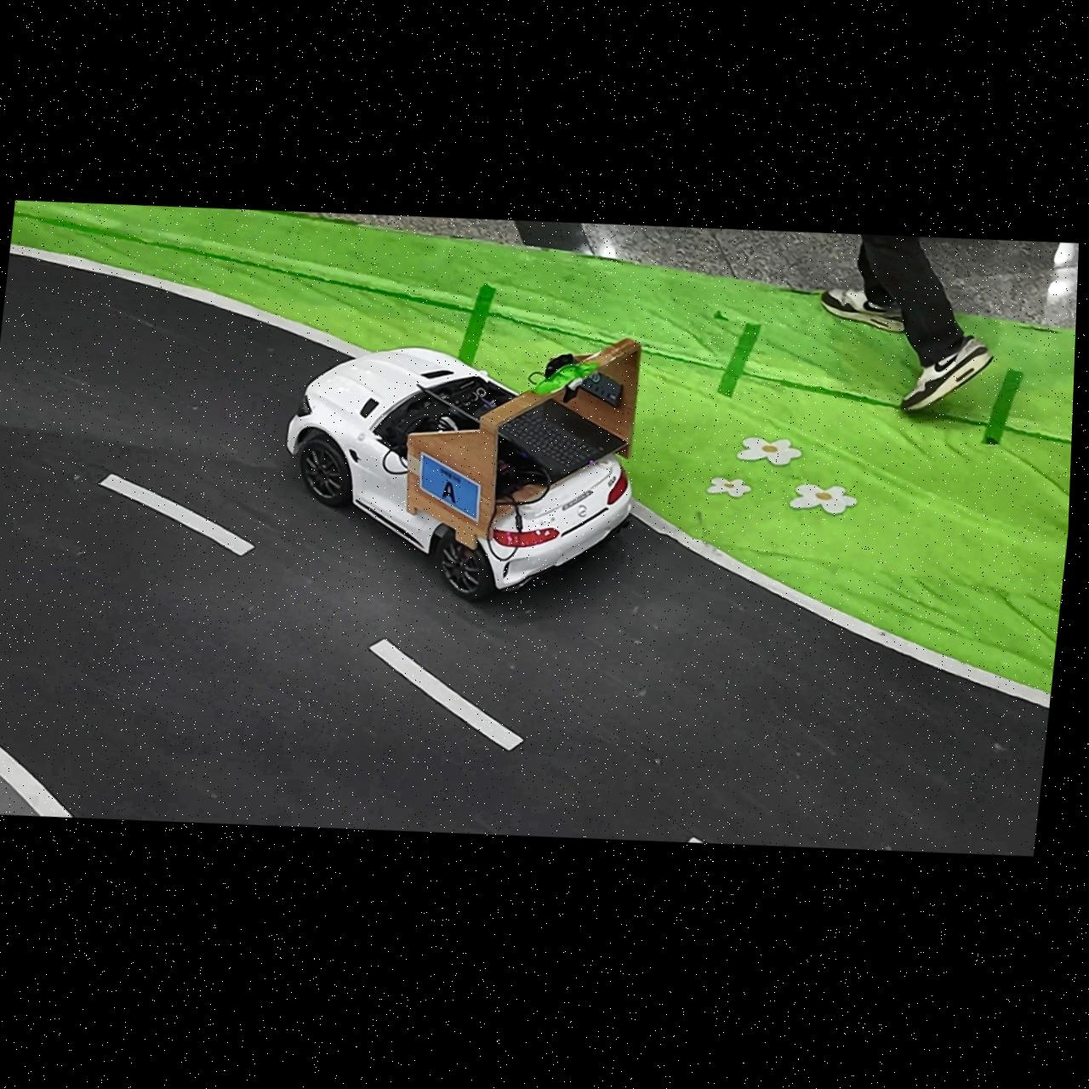broken_line: (368, 638, 524, 751), (99, 474, 255, 556), (687, 837, 704, 843)
